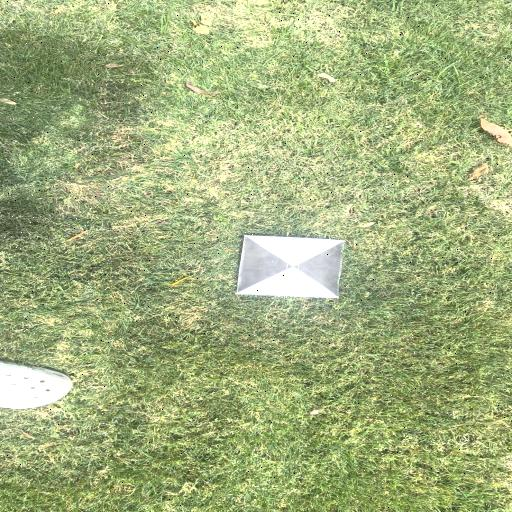target: (238, 240, 341, 296)
